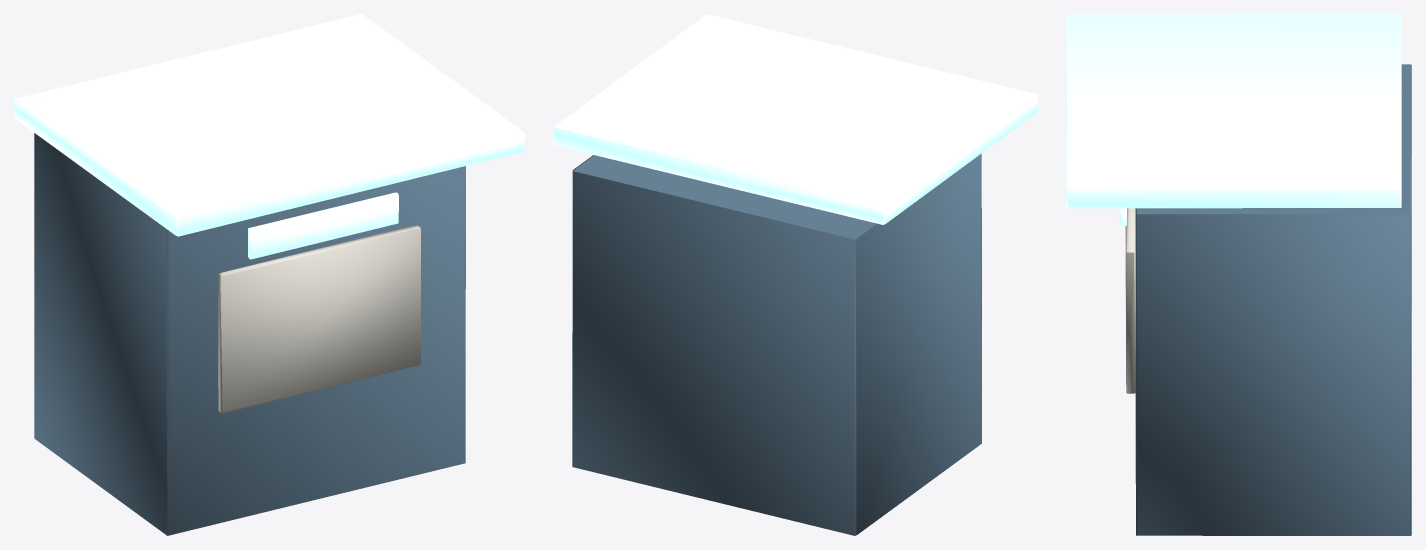
Rendered from SM_Rheinufer_Kiosk_LOD2.fbx.
3 renders of one model, left to right at view 1: azimuth 30°, elevation 25°; view 2: azimuth 150°, elevation 25°; view 3: azimuth 270°, elevation 25°, orthographic. The views are drawn at different scales.
Visible parts, largest first — view 1: SM_Rheinufer_Kiosk_LOD2; view 2: SM_Rheinufer_Kiosk_LOD2; view 3: SM_Rheinufer_Kiosk_LOD2.
Boxes of the visible parts, left/top/right/bottom form: SM_Rheinufer_Kiosk_LOD2: left=14, top=14, right=524, bottom=535; SM_Rheinufer_Kiosk_LOD2: left=553, top=14, right=1037, bottom=535; SM_Rheinufer_Kiosk_LOD2: left=1066, top=14, right=1411, bottom=535.
Bounding box in the file's own units: 2.09 × 2 × 1.74.
